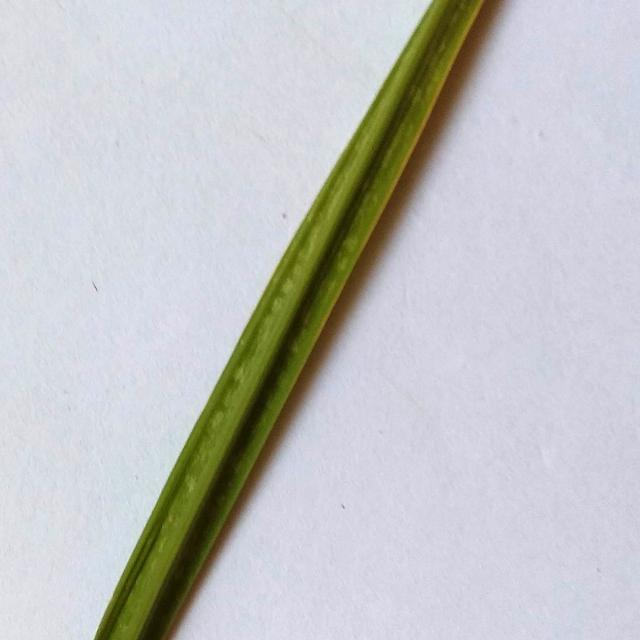Rice_Healthy: (94, 0, 482, 640)
